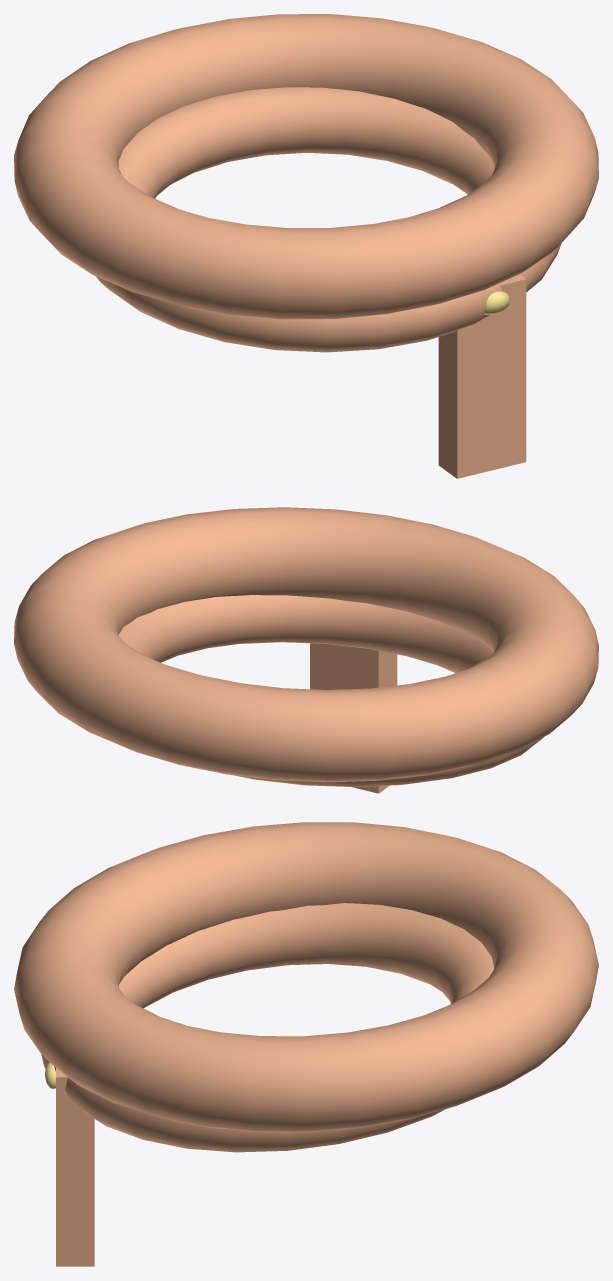
The model's file is scarf_cozy.glb.
3 renders of one model, top to bottom at view 1: azimuth 30°, elevation 25°; view 2: azimuth 150°, elevation 25°; view 3: azimuth 270°, elevation 25°, orthographic. The views are drawn at different scales.
Size of the model in its own units: 1.12 by 0.5844 by 1.06.
